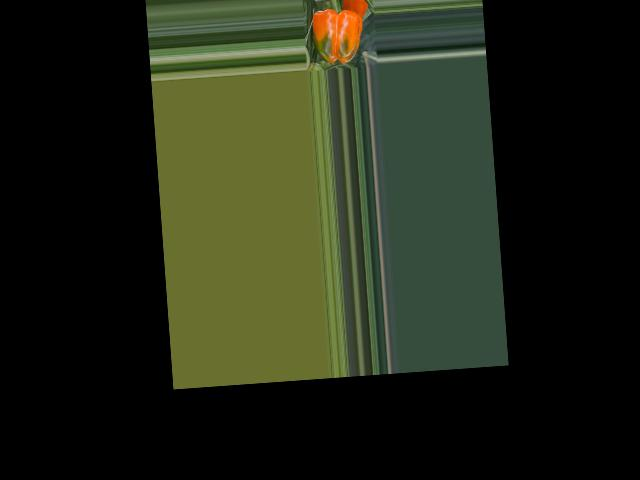bell_pepper: (304, 0, 367, 70)
